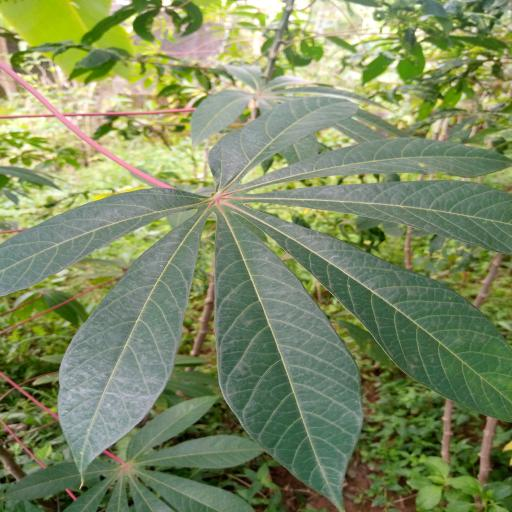Cassava_Healthy: (0, 90, 512, 501)
